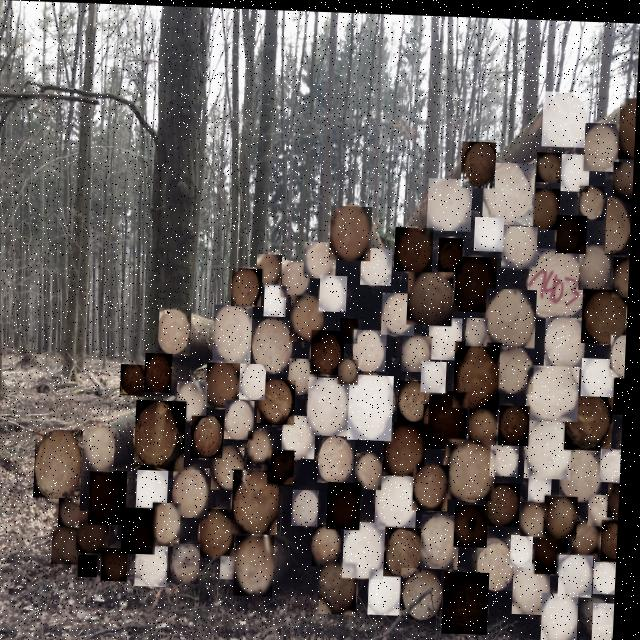wood-log: (530, 244, 591, 314), (138, 399, 190, 470), (38, 429, 87, 500), (484, 158, 537, 222), (456, 338, 505, 405), (448, 435, 500, 497), (236, 467, 284, 533), (488, 284, 540, 344), (351, 372, 397, 438), (529, 361, 583, 417), (447, 568, 495, 631), (528, 415, 576, 475), (568, 389, 617, 446), (426, 387, 472, 446), (409, 266, 456, 323), (310, 374, 354, 434), (543, 87, 590, 143), (584, 284, 630, 340), (239, 534, 280, 595), (253, 317, 297, 373), (347, 519, 390, 576), (457, 253, 500, 309), (429, 175, 474, 228), (331, 203, 374, 258), (216, 303, 256, 362), (563, 445, 607, 498), (379, 473, 422, 527), (387, 419, 430, 473), (547, 312, 589, 365), (425, 511, 465, 566), (405, 564, 447, 616), (93, 469, 132, 524), (481, 534, 521, 587), (324, 559, 363, 612), (517, 559, 556, 611), (388, 524, 428, 574), (547, 589, 585, 640), (204, 506, 241, 557), (177, 466, 214, 517), (322, 432, 359, 481), (396, 224, 436, 269), (261, 378, 299, 425), (585, 118, 621, 167), (502, 341, 538, 390), (462, 138, 498, 185), (417, 461, 453, 508), (126, 506, 162, 553), (331, 479, 366, 527), (373, 566, 409, 612), (292, 293, 327, 340), (161, 306, 195, 354), (607, 192, 634, 251), (503, 222, 540, 265), (489, 479, 525, 523), (209, 361, 244, 406), (285, 413, 320, 457), (313, 328, 348, 372), (563, 550, 598, 593), (215, 445, 249, 489), (581, 240, 613, 286), (431, 314, 465, 357), (384, 290, 418, 333), (540, 527, 574, 570), (194, 414, 228, 457), (548, 491, 582, 534), (459, 501, 493, 544), (356, 327, 390, 369), (81, 510, 114, 553), (88, 426, 119, 471), (401, 377, 433, 420), (584, 353, 619, 392), (56, 525, 91, 564), (140, 469, 173, 510), (140, 545, 173, 586), (530, 184, 562, 226), (156, 501, 186, 545), (502, 401, 534, 442), (558, 210, 590, 249), (317, 522, 346, 565), (306, 239, 339, 276), (363, 245, 395, 283), (180, 380, 211, 419), (234, 266, 265, 305), (228, 398, 258, 438), (177, 542, 205, 582), (619, 93, 637, 155), (405, 332, 435, 369), (473, 403, 502, 441), (148, 352, 176, 391), (563, 150, 592, 187), (577, 516, 606, 553), (292, 356, 321, 392), (494, 437, 523, 473), (359, 450, 387, 487), (242, 361, 270, 398), (271, 448, 299, 485), (476, 214, 506, 248), (284, 260, 313, 295), (322, 273, 350, 309), (296, 487, 323, 524), (525, 498, 553, 533), (597, 598, 620, 640), (106, 547, 134, 580), (258, 252, 285, 286), (580, 181, 606, 216), (440, 234, 465, 269), (251, 429, 276, 462), (592, 490, 618, 521), (424, 358, 450, 389), (123, 363, 148, 395), (537, 148, 562, 179), (515, 531, 539, 563), (598, 557, 621, 590), (605, 515, 623, 557), (614, 157, 635, 193), (614, 252, 632, 293), (267, 283, 290, 315), (604, 444, 625, 478), (613, 330, 629, 373), (469, 314, 491, 343), (63, 499, 85, 527), (532, 473, 556, 498), (341, 356, 362, 382), (342, 315, 361, 341), (83, 554, 103, 577), (616, 373, 628, 410), (612, 478, 624, 513), (226, 554, 240, 578)
